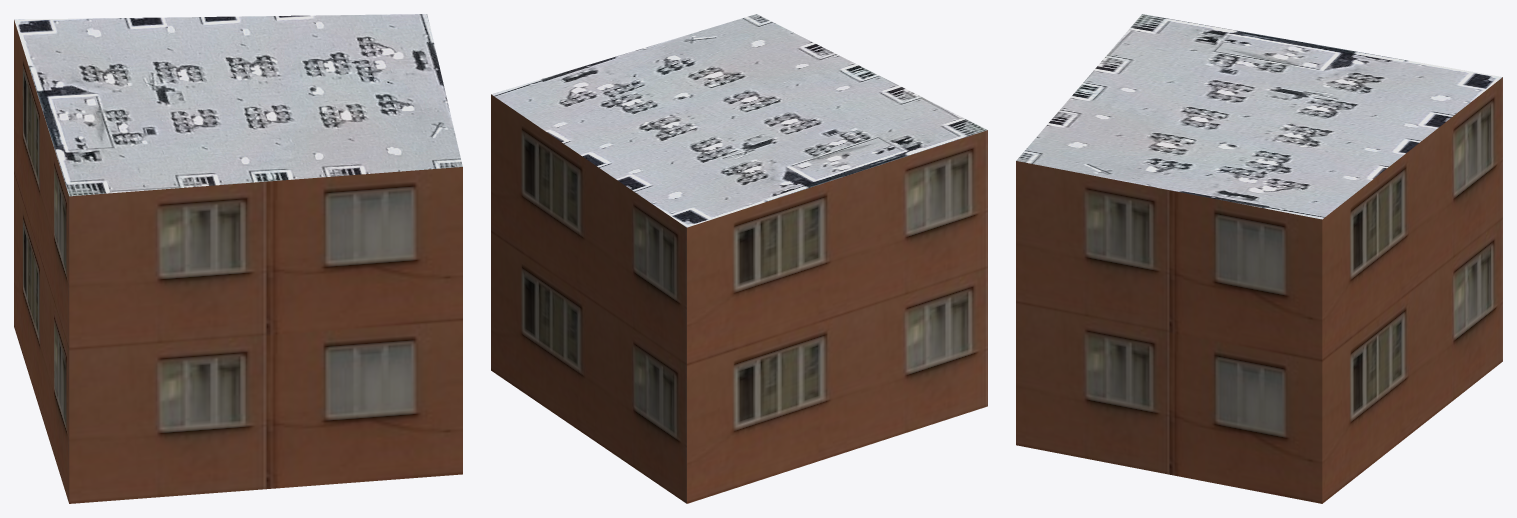
File: ResTex__4336.fbx
3 renders of one model, left to right at view 1: azimuth 30°, elevation 25°; view 2: azimuth 150°, elevation 25°; view 3: azimuth 270°, elevation 25°, orthographic. The views are drawn at different scales.
Visible parts, largest first — view 1: CityEngineMaterial_20_m, CityEngineMaterial_m; view 2: CityEngineMaterial_20_m, CityEngineMaterial_m; view 3: CityEngineMaterial_20_m, CityEngineMaterial_m.
Boxes of the visible parts, x1=… form: CityEngineMaterial_20_m: x1=14, y1=20, x2=462, y2=503; CityEngineMaterial_m: x1=14, y1=14, x2=462, y2=196; CityEngineMaterial_20_m: x1=491, y1=94, x2=987, y2=503; CityEngineMaterial_m: x1=491, y1=14, x2=987, y2=227; CityEngineMaterial_20_m: x1=1016, y1=77, x2=1502, y2=503; CityEngineMaterial_m: x1=1016, y1=14, x2=1502, y2=219.
Bounding box in the file's own units: 9.3 × 6 × 9.31.
2 materials, 2 textured.
